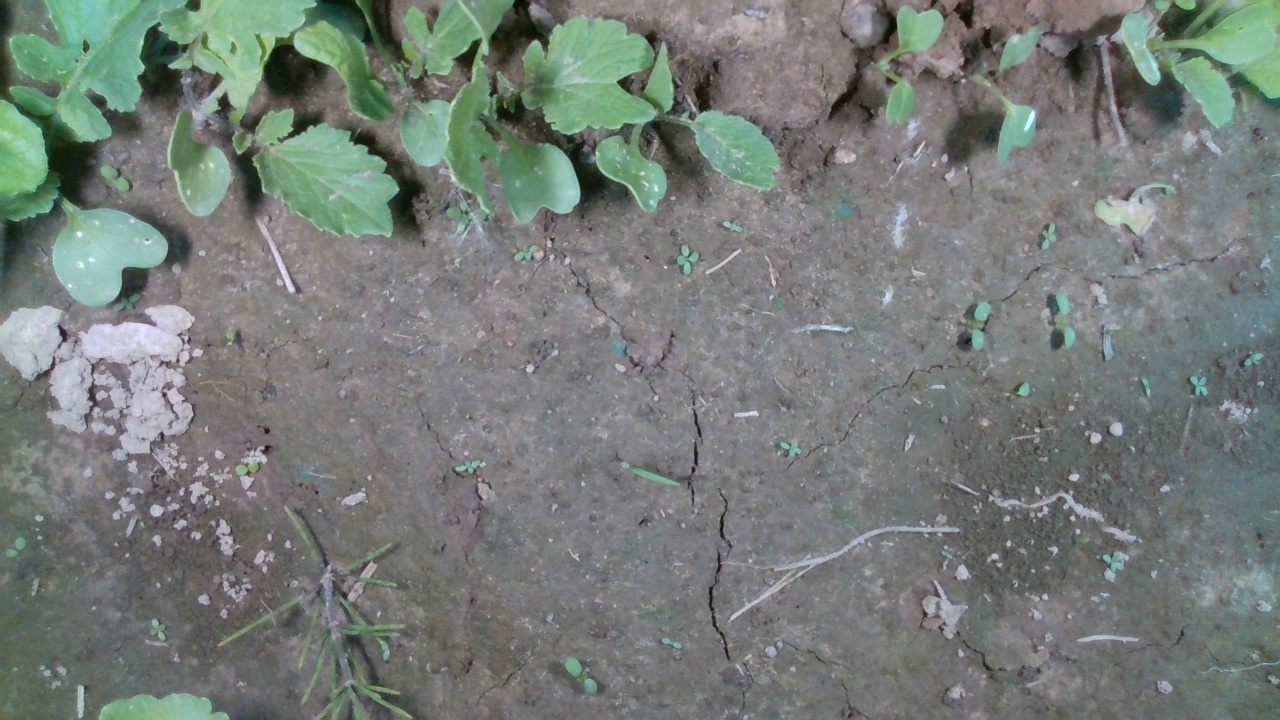weed: (1052, 287, 1077, 351), (564, 656, 598, 695), (969, 298, 991, 352), (98, 163, 132, 192), (674, 244, 699, 276), (511, 242, 542, 263), (1039, 221, 1059, 251), (1187, 374, 1210, 399), (1102, 550, 1125, 574), (454, 457, 483, 476), (5, 535, 26, 559), (779, 438, 804, 457), (148, 617, 167, 642), (234, 460, 260, 476), (1243, 350, 1265, 367), (722, 218, 743, 233), (660, 636, 683, 649)
